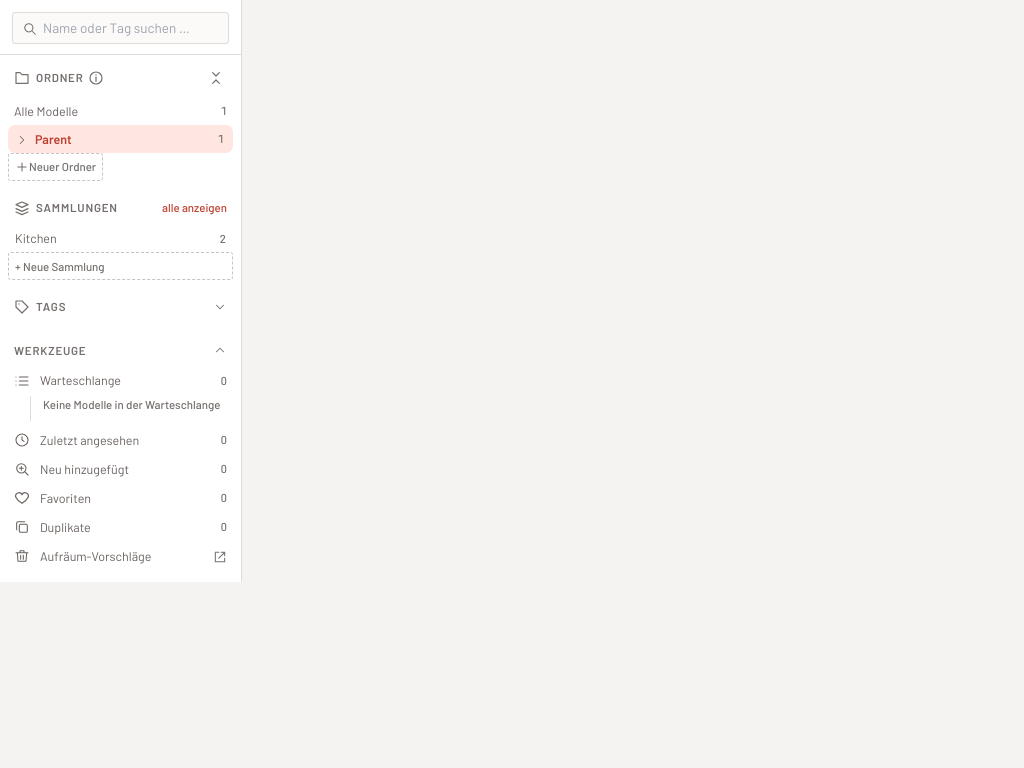
Test: opens the collection menu on right-click and deletes only after confirmation, returning focus to the heading
The width and height of the screenshot is (1024, 768).
Right-click the button "Kitchen 2" at (36, 238), box [15,230,226,246]
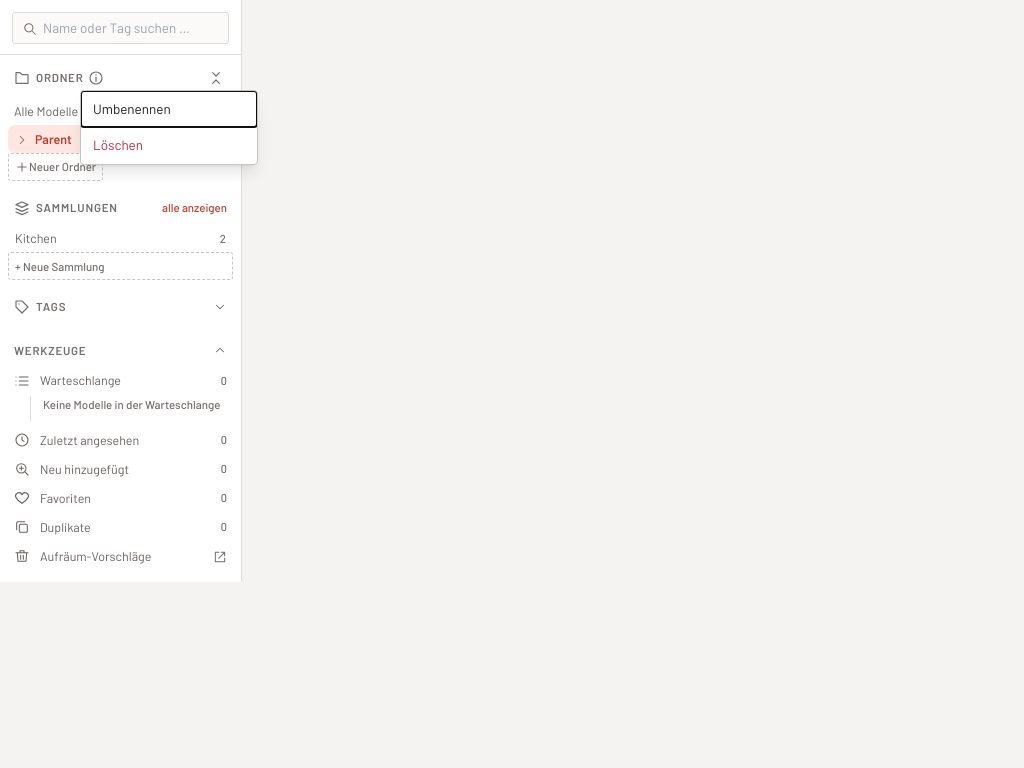
Click the button "Löschen" at (169, 145), box [81,127,257,164]
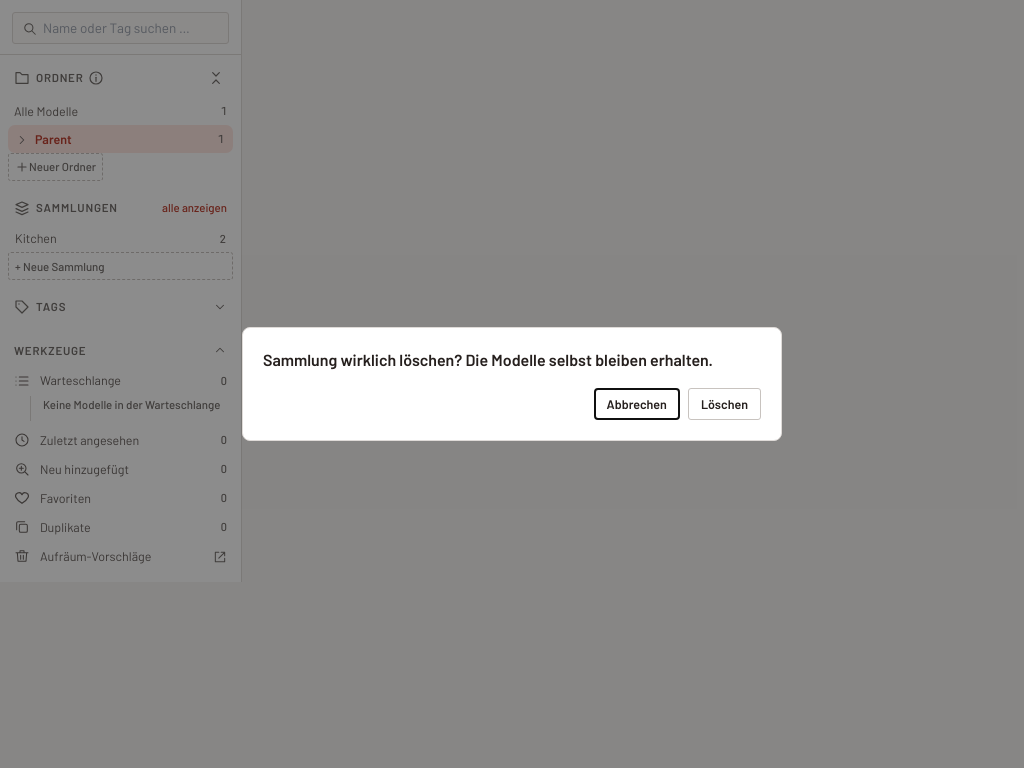
expect the dialog is shown: met, box [242,327,782,441]
Click the button "Abbrechen" at (637, 404), box [594,388,680,420]
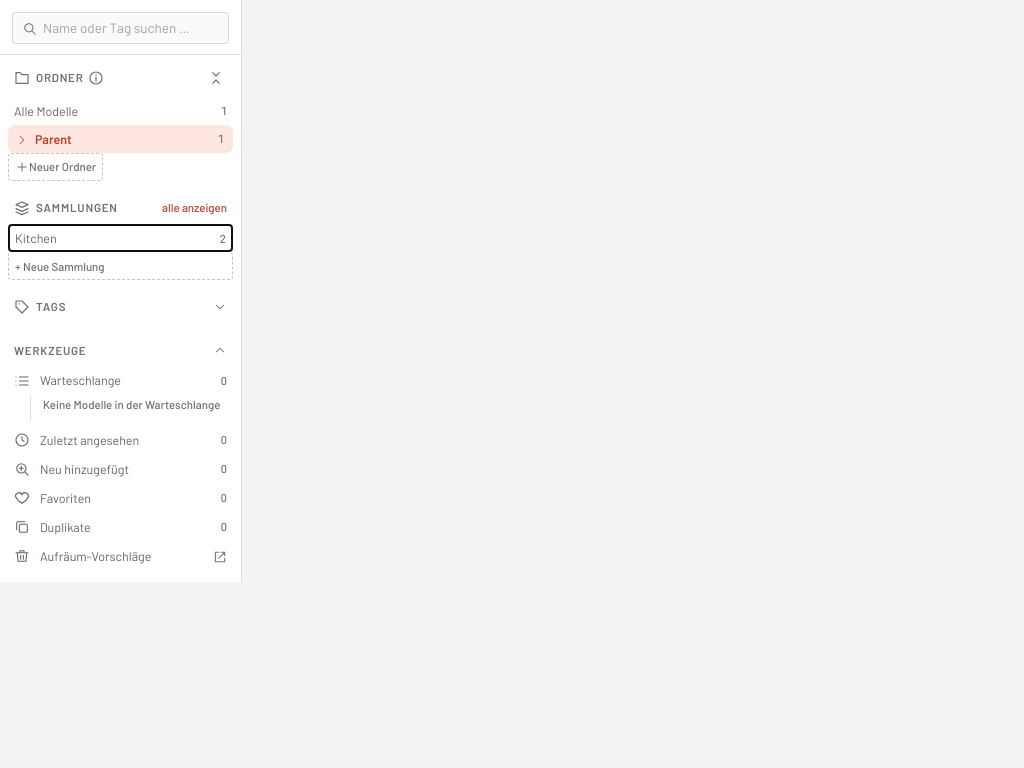
Right-click the button "Kitchen 2" at (36, 238), box [15,230,226,246]
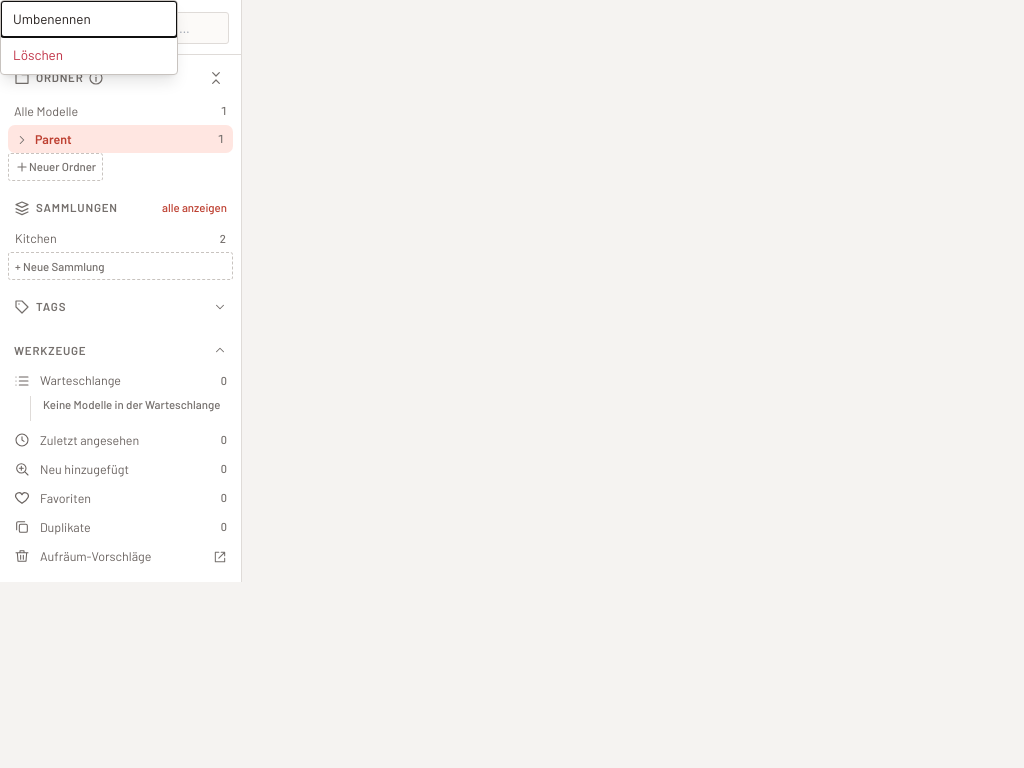
Click the button "Löschen" at (89, 55), box [1,37,177,74]
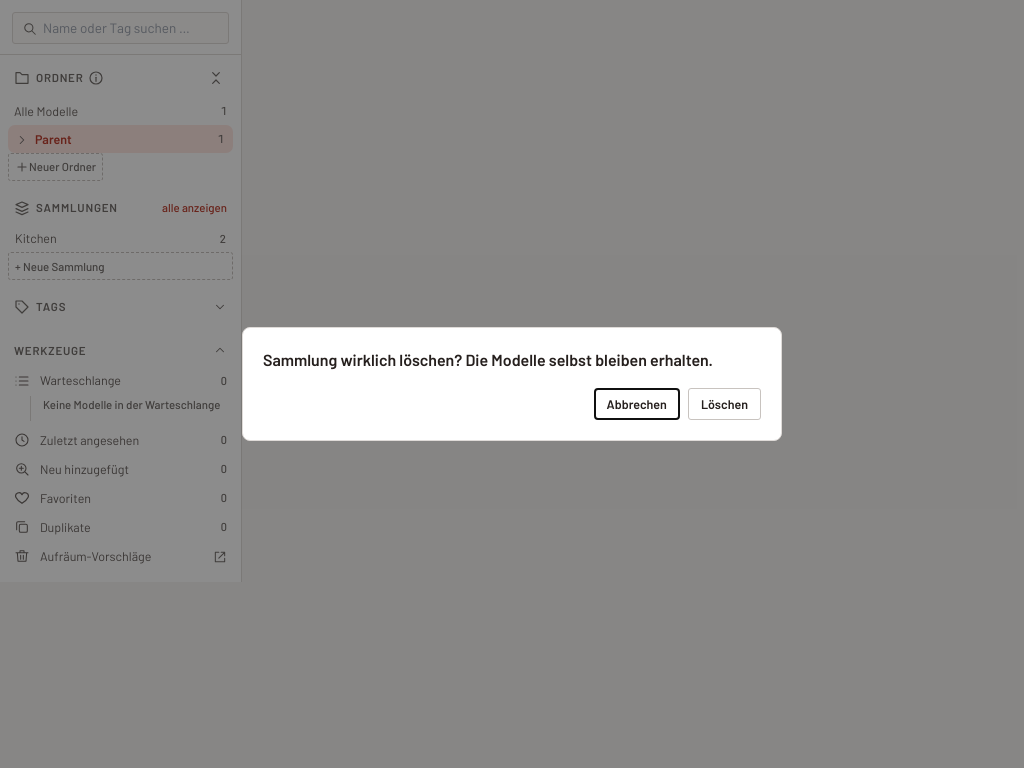
Click the button "Löschen" at (724, 404), box [688,388,761,420]
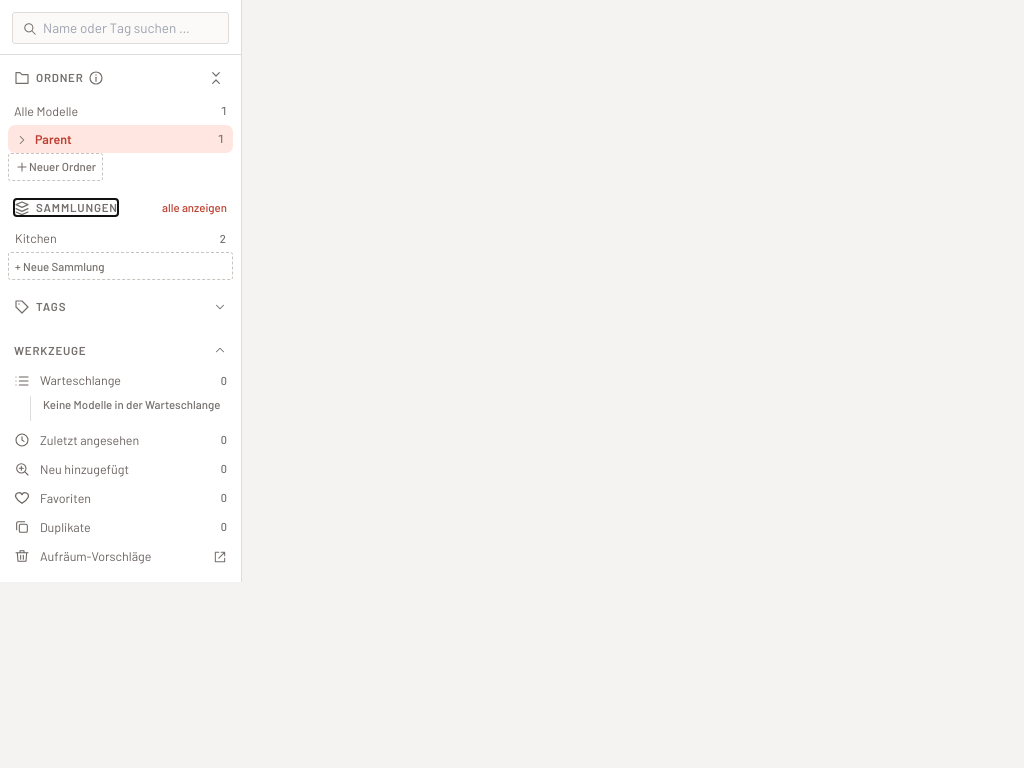
expect the dialog is gone: met
